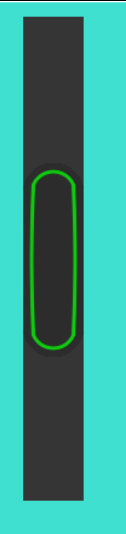SLIDER: (26, 165, 81, 363)
